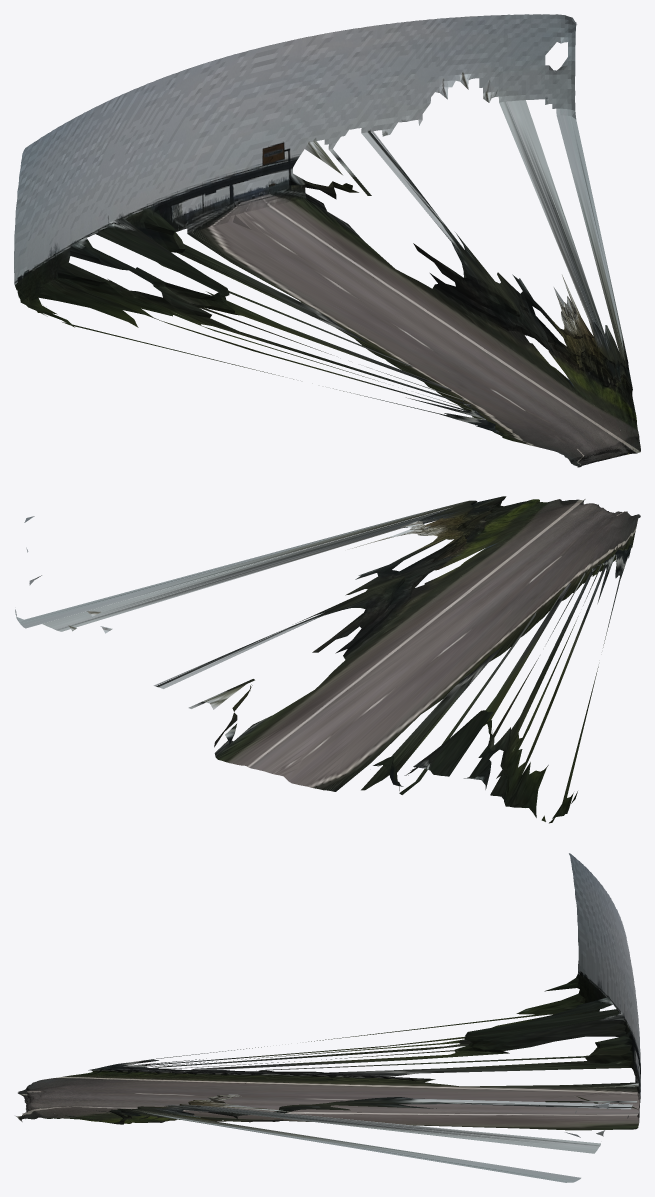
The picture shows the model from 3 angles, top to bottom: view 1: azimuth 30°, elevation 25°; view 2: azimuth 150°, elevation 25°; view 3: azimuth 270°, elevation 25°; orthographic projection. The views are drawn at different scales.
Parts seen in each view (by area): view 1: defaultobject; view 2: defaultobject; view 3: defaultobject.
Part boxes in pixels (box(x1,y1,x2,y2)): defaultobject: box(14, 14, 640, 467); defaultobject: box(15, 496, 640, 823); defaultobject: box(16, 853, 640, 1182).
Size of the model in its own units: 41.06 by 12.89 by 44.9.
1 material, 1 textured.
